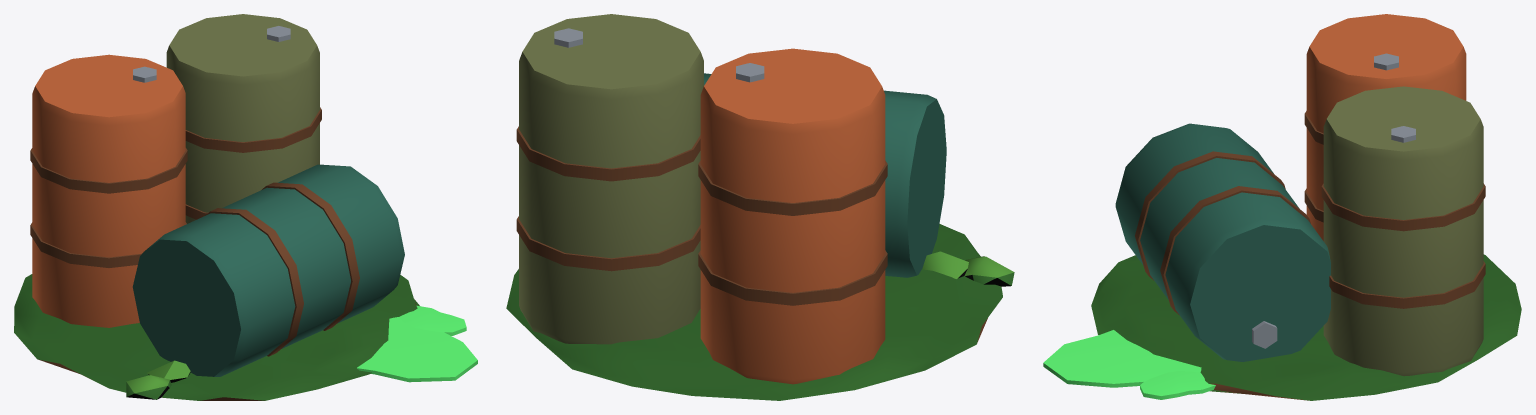
File: RustyDrums.fbx
3 views of the same model, side by side, from view 1: azimuth 30°, elevation 25°; view 2: azimuth 150°, elevation 25°; view 3: azimuth 270°, elevation 25° (orthographic). The views are drawn at different scales.
Parts seen in each view (by area): view 1: RustyDrums; view 2: RustyDrums; view 3: RustyDrums.
Boxes of the visible parts, left/top/right/bottom form: RustyDrums: left=14, top=14, right=477, bottom=400; RustyDrums: left=506, top=14, right=1014, bottom=400; RustyDrums: left=1043, top=14, right=1521, bottom=400.
Bounding box in the file's own units: 1.52 × 0.907 × 1.68.
2 materials, 2 textured.
